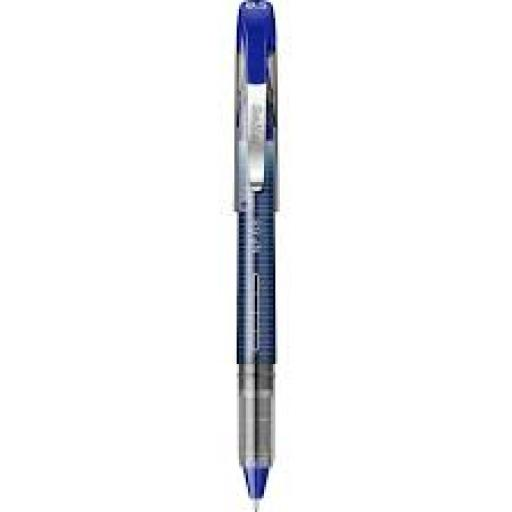tukenmez-kalem: (170, 0, 388, 512)
